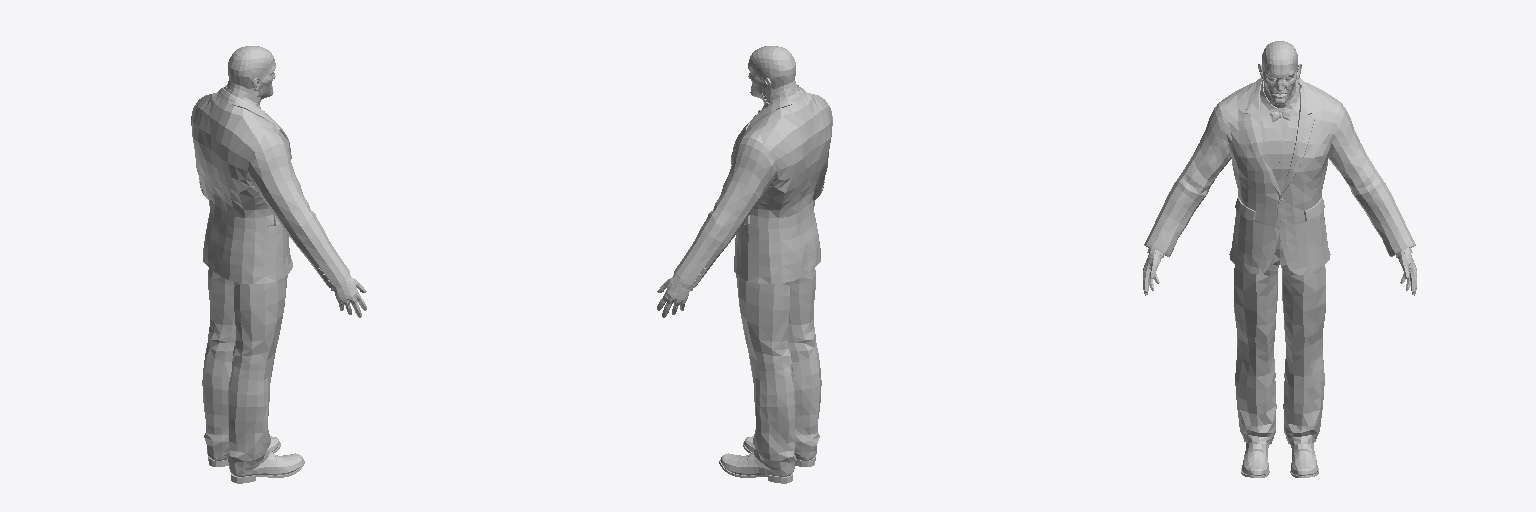
File: Doorman.obj
3 renders of one model, left to right at view 1: azimuth 30°, elevation 25°; view 2: azimuth 150°, elevation 25°; view 3: azimuth 270°, elevation 25°, orthographic.
Visible parts, largest first — view 1: doorman:polySurface26 doorman:polySurface31 doorman:polySurface1, doorman:polySurface26 doorman:polySurface33 doorman:polySurface1, doorman:polySurface26 doorman:polySurface28 doorman:polySurface1, doorman:polySurface26 doorman:polySurface32 doorman:polySurface1, doorman:polySurface26 doorman:polySurface29 doorman:polySurface1; view 2: doorman:polySurface26 doorman:polySurface31 doorman:polySurface1, doorman:polySurface26 doorman:polySurface33 doorman:polySurface1, doorman:polySurface26 doorman:polySurface28 doorman:polySurface1, doorman:polySurface26 doorman:polySurface30 doorman:polySurface1, doorman:polySurface26 doorman:polySurface27 doorman:polySurface1; view 3: doorman:polySurface26 doorman:polySurface31 doorman:polySurface1, doorman:polySurface26 doorman:polySurface33 doorman:polySurface1, doorman:polySurface26 doorman:polySurface38 doorman:polySurface1, doorman:polySurface26 doorman:polySurface28 doorman:polySurface1, doorman:polySurface26 doorman:polySurface30 doorman:polySurface1, doorman:polySurface26 doorman:polySurface32 doorman:polySurface1.
Part boxes in pixels (x1,y1,x2,y2): doorman:polySurface26 doorman:polySurface31 doorman:polySurface1: (191,87,349,287); doorman:polySurface26 doorman:polySurface33 doorman:polySurface1: (202,268,287,474); doorman:polySurface26 doorman:polySurface28 doorman:polySurface1: (226,46,275,104); doorman:polySurface26 doorman:polySurface32 doorman:polySurface1: (231,452,304,483); doorman:polySurface26 doorman:polySurface29 doorman:polySurface1: (334,277,366,317); doorman:polySurface26 doorman:polySurface31 doorman:polySurface1: (674,87,832,287); doorman:polySurface26 doorman:polySurface33 doorman:polySurface1: (736,268,821,474); doorman:polySurface26 doorman:polySurface28 doorman:polySurface1: (748,46,797,104); doorman:polySurface26 doorman:polySurface30 doorman:polySurface1: (719,452,792,483); doorman:polySurface26 doorman:polySurface27 doorman:polySurface1: (657,277,689,317); doorman:polySurface26 doorman:polySurface31 doorman:polySurface1: (1144,78,1415,274); doorman:polySurface26 doorman:polySurface33 doorman:polySurface1: (1234,236,1325,444); doorman:polySurface26 doorman:polySurface38 doorman:polySurface1: (1260,79,1299,192); doorman:polySurface26 doorman:polySurface28 doorman:polySurface1: (1258,41,1301,107); doorman:polySurface26 doorman:polySurface30 doorman:polySurface1: (1290,443,1318,477); doorman:polySurface26 doorman:polySurface32 doorman:polySurface1: (1241,443,1269,477).
Size of the model in its own units: 1.42 by 6.11 by 3.62.